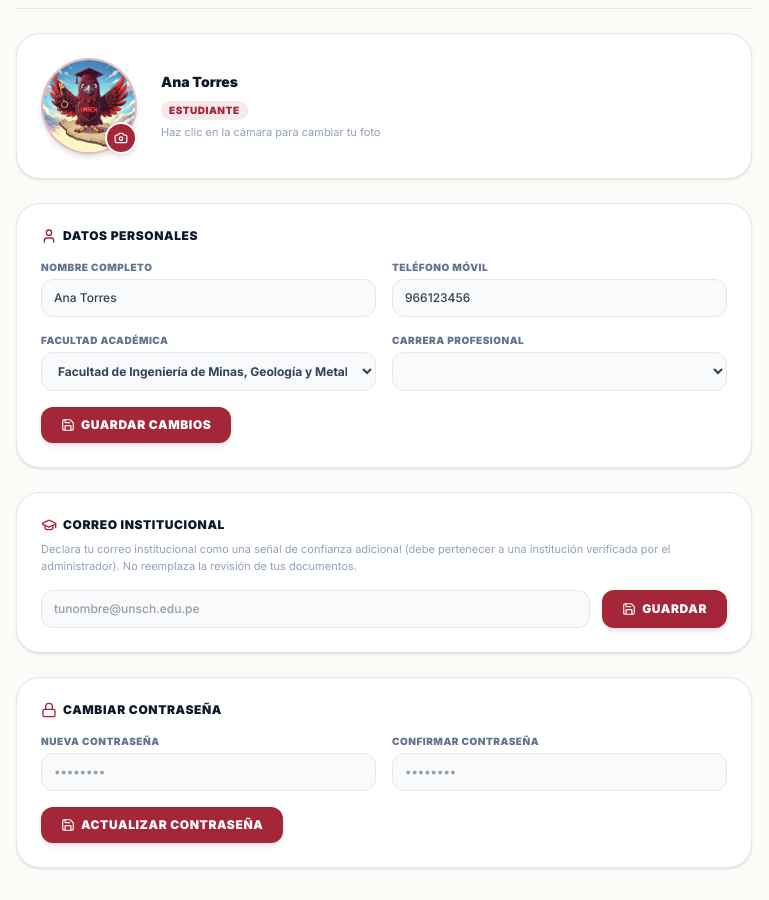
it: AccountSettingsPage › cambia la contraseña correctamente y limpia los campos
The width and height of the screenshot is (769, 900).
(page scrolled)
Type "secreta123" into the password field with placeholder "••••••••" below "Nueva Contraseña" at (208, 772), box [41, 753, 376, 791]
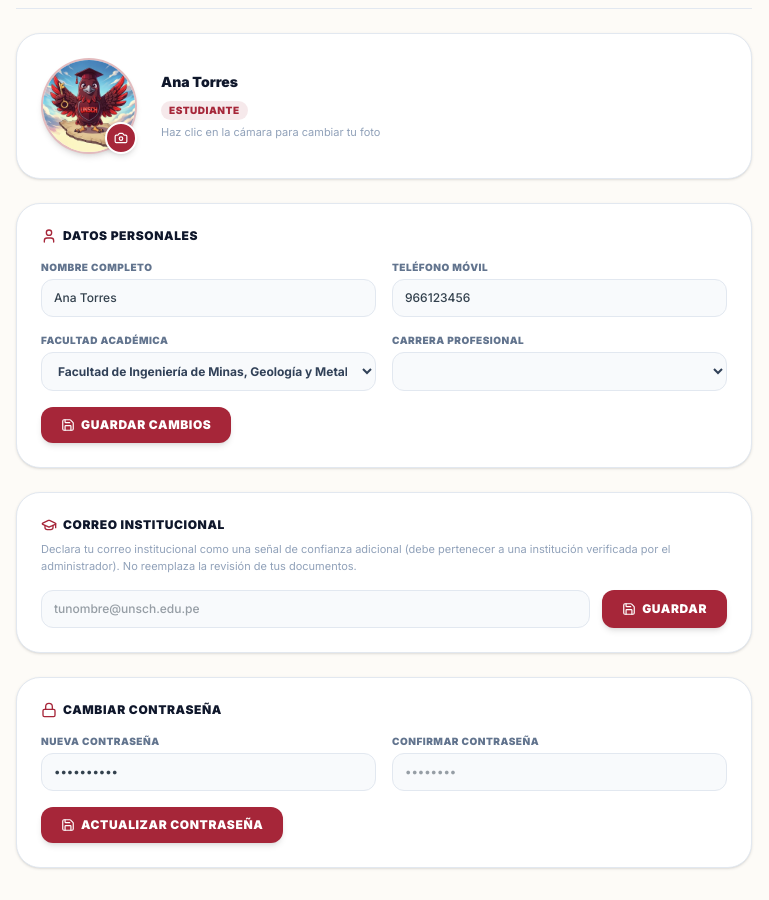
Type "secreta123" into the password field with placeholder "••••••••" at (560, 772), box [392, 753, 727, 791]
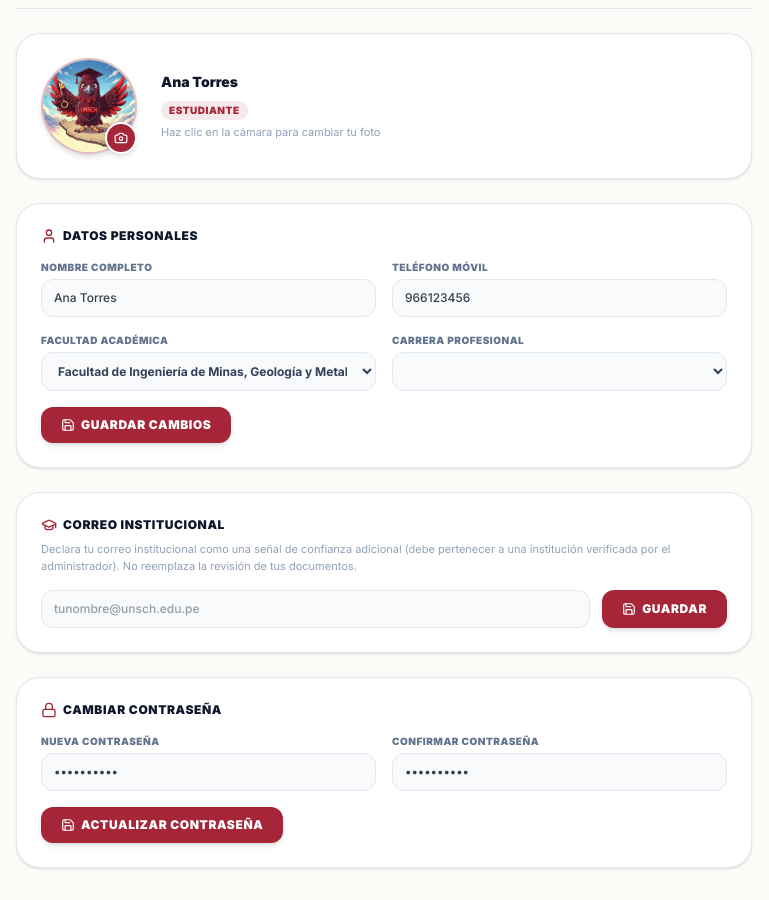
Click the button "Actualizar Contraseña" at (162, 825), box [41, 807, 283, 843]
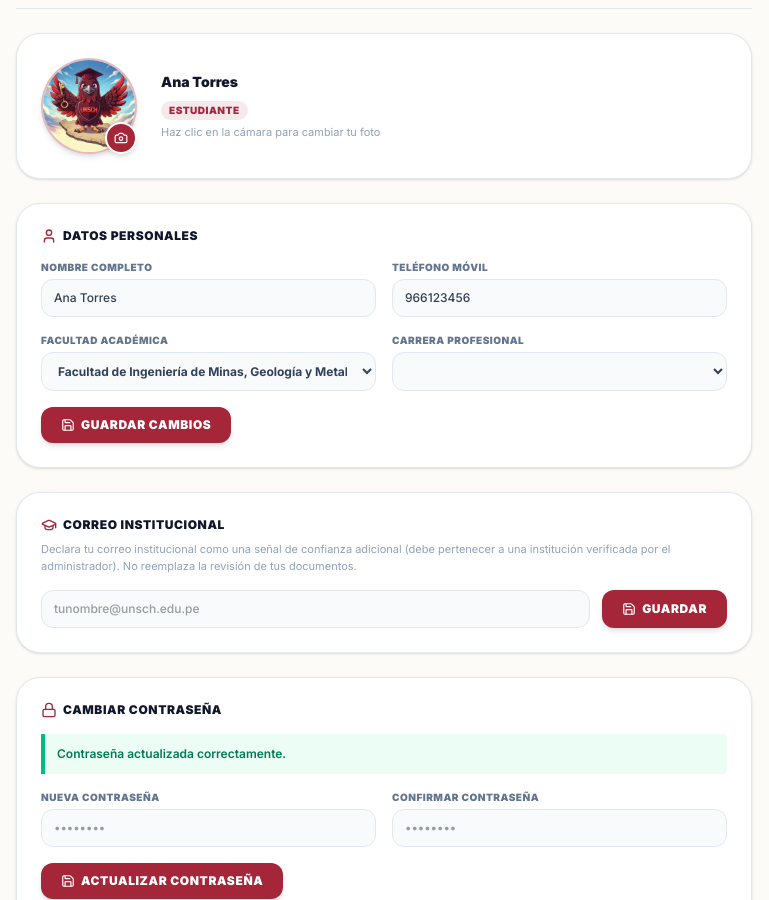
expect the text "Contraseña actualizada correctamente." is shown: met, box [41, 734, 727, 774]
expect the password field with placeholder "••••••••" below "Nueva Contraseña" is empty: met, box [41, 809, 376, 847]
